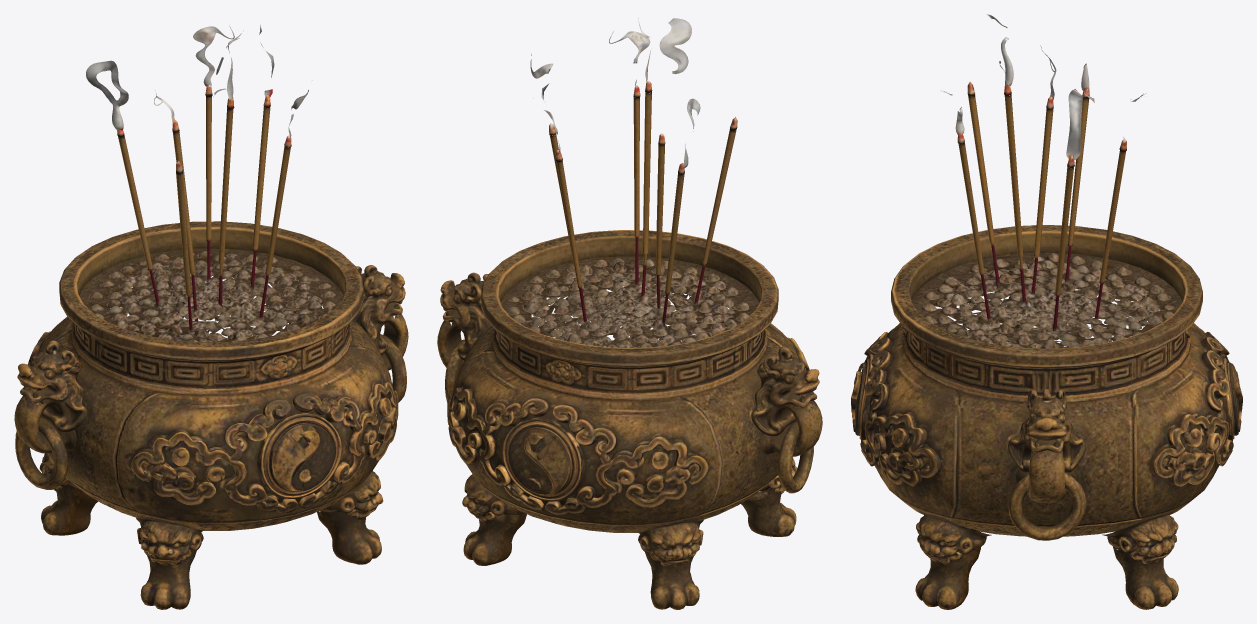
File: burner.glb
3 renders of one model, left to right at view 1: azimuth 30°, elevation 25°; view 2: azimuth 150°, elevation 25°; view 3: azimuth 270°, elevation 25°, orthographic. The views are drawn at different scales.
Visible parts, largest first — view 1: tripo_19f91c0c_9664_475c_aaa6_90e5bf5fb51d; view 2: tripo_19f91c0c_9664_475c_aaa6_90e5bf5fb51d; view 3: tripo_19f91c0c_9664_475c_aaa6_90e5bf5fb51d.
Part boxes in pixels (box(x1,y1,x2,y2)): tripo_19f91c0c_9664_475c_aaa6_90e5bf5fb51d: box(14, 25, 408, 609); tripo_19f91c0c_9664_475c_aaa6_90e5bf5fb51d: box(437, 17, 822, 609); tripo_19f91c0c_9664_475c_aaa6_90e5bf5fb51d: box(851, 14, 1242, 609).
Size of the model in its own units: 0.77 by 0.9995 by 0.6606.
1 material, 1 textured.
